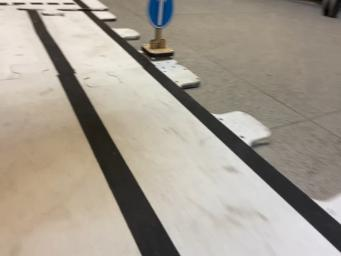forward: (142, 0, 176, 57), (142, 0, 176, 57), (142, 0, 176, 57), (142, 0, 176, 57), (142, 0, 176, 57), (142, 0, 176, 57)
